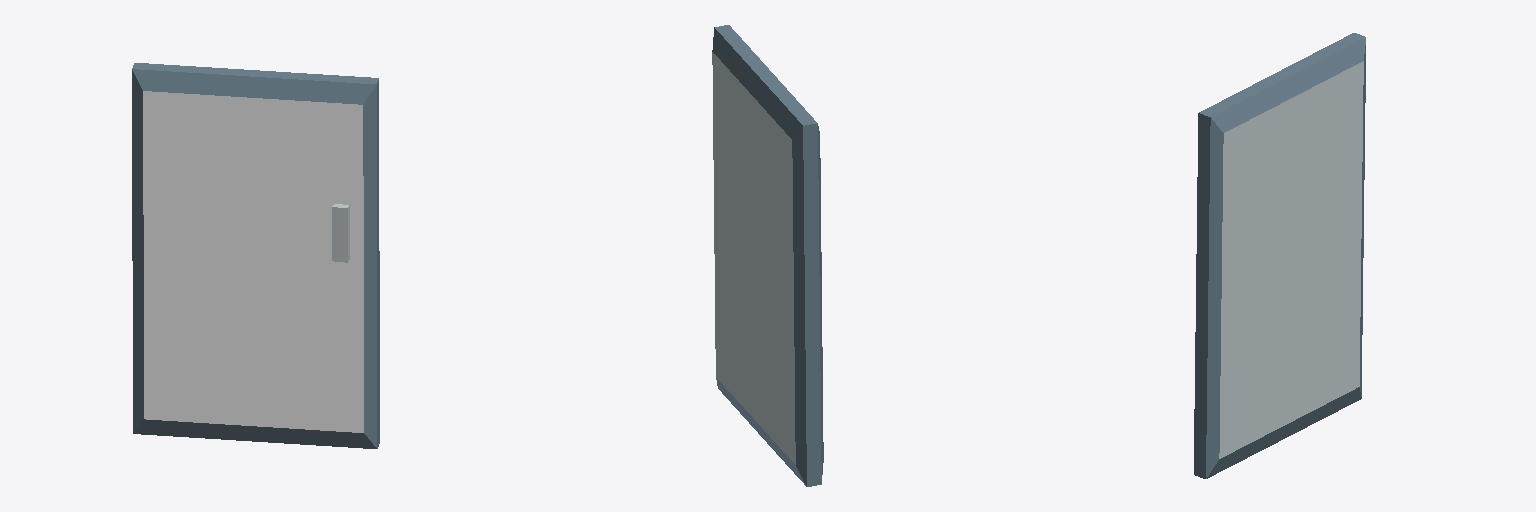
3 renders of one model, left to right at view 1: azimuth 30°, elevation 25°; view 2: azimuth 150°, elevation 25°; view 3: azimuth 270°, elevation 25°, orthographic.
Parts seen in each view (by area): view 1: group[number redacted], group[number redacted]; view 2: group[number redacted]; view 3: group[number redacted].
Part boxes in pixels (x1,y1,x2,y2): group[number redacted]: (132,63,379,448); group[number redacted]: (332,204,349,262); group[number redacted]: (712,25,823,486); group[number redacted]: (1194,33,1365,478).
Bounding box in the file's own units: 0.3875 × 0.7622 × 0.3278.